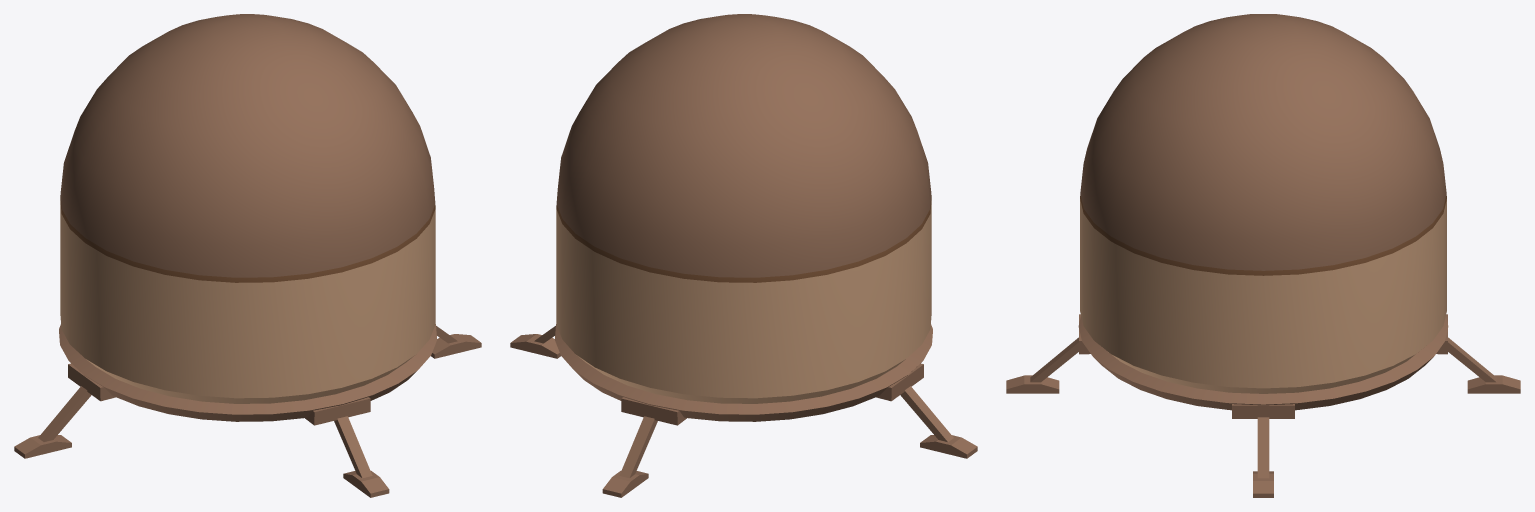
Rendered from n_house_cylinder.glb.
The picture shows the model from 3 angles, left to right: view 1: azimuth 30°, elevation 25°; view 2: azimuth 150°, elevation 25°; view 3: azimuth 270°, elevation 25°; orthographic projection. The views are drawn at different scales.
Parts seen in each view (by area): view 1: House_Cylinder; view 2: House_Cylinder; view 3: House_Cylinder.
Boxes of the visible parts, bbox=[...] form: House_Cylinder: bbox=[14, 14, 481, 497]; House_Cylinder: bbox=[510, 14, 977, 497]; House_Cylinder: bbox=[1006, 14, 1520, 497].
Bounding box in the file's own units: 5.61 × 4.32 × 5.61.
1 material, 1 textured.
